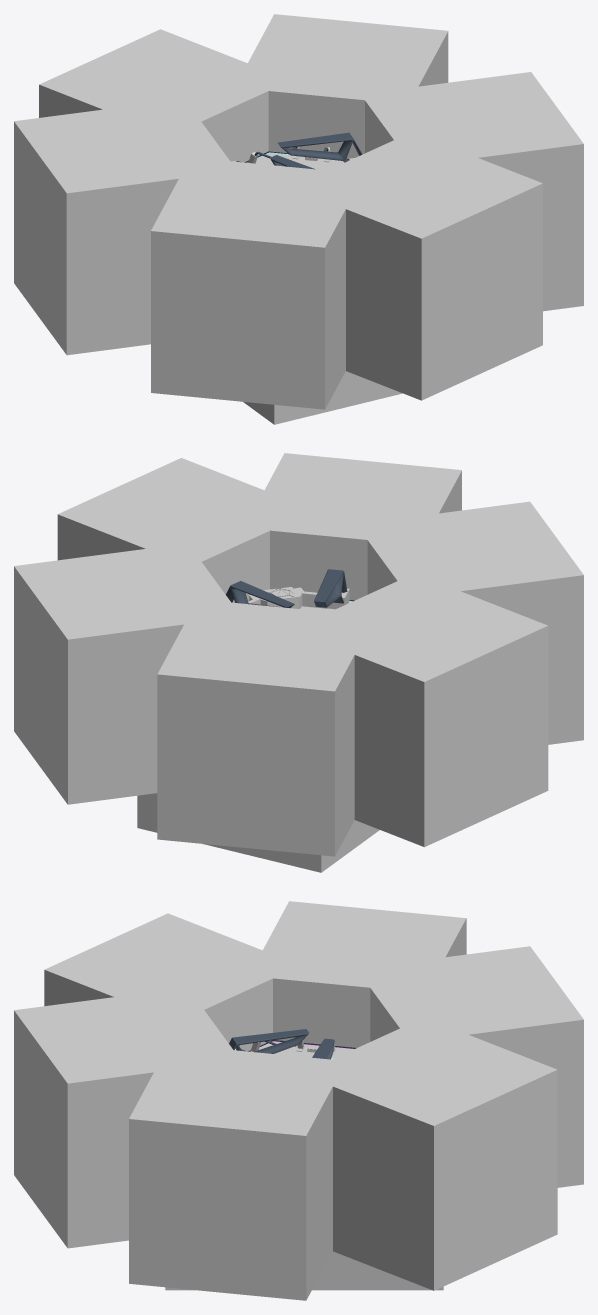
The model's file is Basscoast_flat.glb.
3 renders of one model, top to bottom at view 1: azimuth 30°, elevation 25°; view 2: azimuth 150°, elevation 25°; view 3: azimuth 270°, elevation 25°, orthographic.
Visible parts, largest first — view 1: Cube.003, Cube.004, Cube.002, Cube.005, Cube.006, Cube.001, Cube, Pillars; view 2: Cube.001, Cube.002, Cube.006, Cube.003, Cube.004, Cube.005, Cube, Pillars; view 3: Cube.006, Cube.005, Cube.004, Cube.001, Cube.002, Cube.003, Cube, Pillars.
Boxes of the visible parts, x1,y1,x2,y2 form: Cube.003: [151, 157, 364, 409]; Cube.004: [292, 135, 542, 400]; Cube.002: [14, 99, 236, 355]; Cube.005: [361, 72, 583, 311]; Cube.006: [235, 14, 448, 158]; Cube.001: [39, 29, 291, 162]; Cube: [243, 153, 402, 424]; Pillars: [236, 132, 362, 169]; Cube.001: [157, 599, 374, 856]; Cube.002: [293, 573, 548, 847]; Cube.006: [14, 549, 239, 804]; Cube.003: [367, 501, 583, 744]; Cube.004: [244, 453, 461, 600]; Cube.005: [57, 458, 306, 602]; Cube: [137, 601, 379, 872]; Pillars: [226, 569, 347, 607]; Cube.006: [301, 1017, 557, 1290]; Cube.005: [129, 1050, 346, 1300]; Cube.004: [14, 987, 241, 1248]; Cube.001: [358, 946, 583, 1187]; Cube.002: [249, 901, 466, 1047]; Cube.003: [44, 913, 295, 1051]; Cube: [165, 1041, 443, 1290]; Pillars: [229, 1029, 334, 1059].
Size of the model in its own units: 170 by 76.37 by 174.
Materials: 12 (1 with a texture image).
